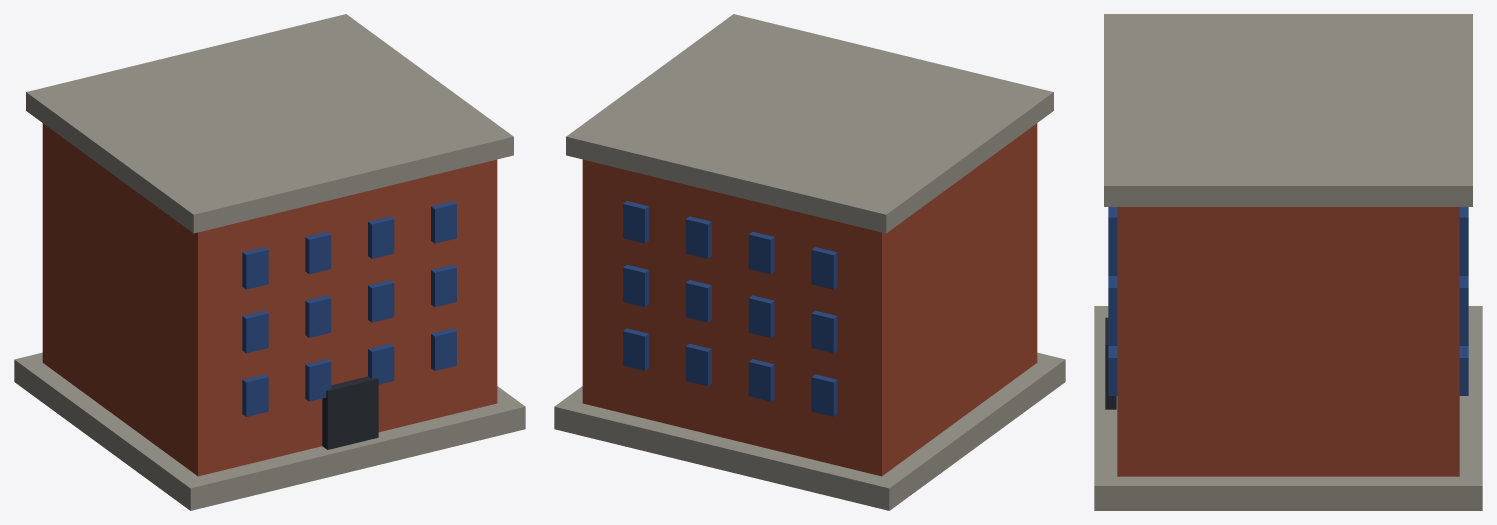
Rendered from bld_residential_a05.glb.
The picture shows the model from 3 angles, left to right: view 1: azimuth 30°, elevation 25°; view 2: azimuth 150°, elevation 25°; view 3: azimuth 270°, elevation 25°; orthographic projection. The views are drawn at different scales.
Parts seen in each view (by area): view 1: body; view 2: body; view 3: body.
Boxes of the visible parts, box(x1,y1,x2,y2) form: body: box(14, 14, 525, 510); body: box(554, 14, 1065, 510); body: box(1094, 14, 1482, 510).
Size of what is drawn, in the model's own units: 5.6 by 4.65 by 5.1.
